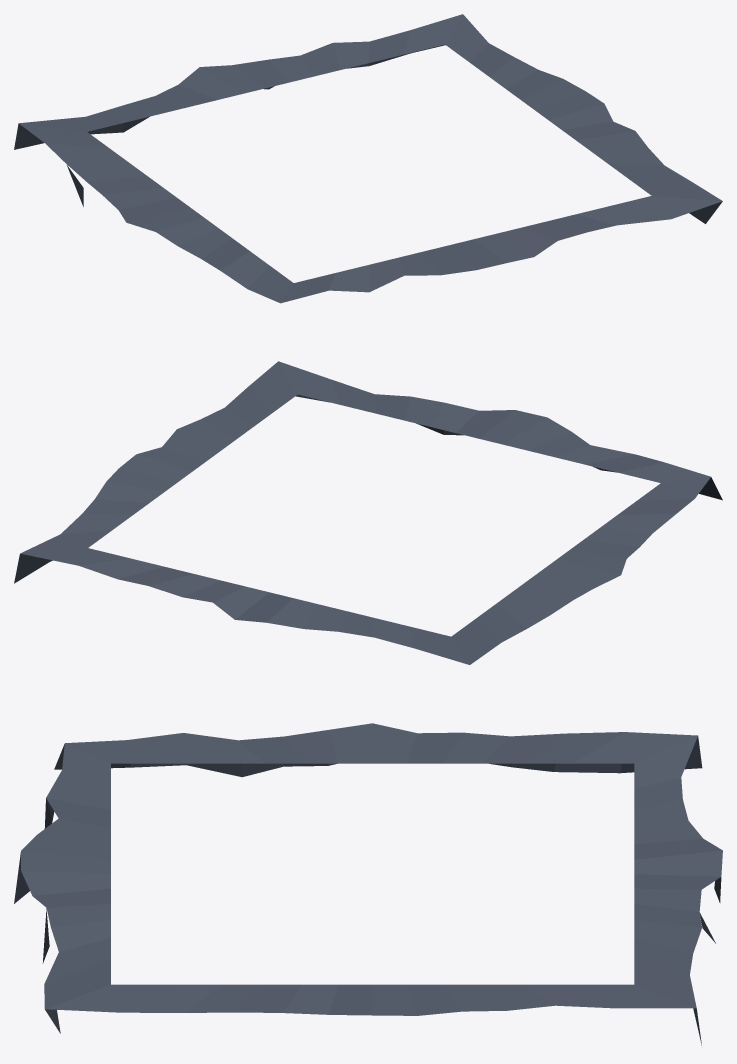
File: entorno.glb
The picture shows the model from 3 angles, top to bottom: view 1: azimuth 30°, elevation 25°; view 2: azimuth 150°, elevation 25°; view 3: azimuth 270°, elevation 25°; orthographic projection. The views are drawn at different scales.
Visible parts, largest first — view 1: vulcao_entorno; view 2: vulcao_entorno; view 3: vulcao_entorno.
Part boxes in pixels (x1,y1,x2,y2): vulcao_entorno: (14, 14, 722, 303); vulcao_entorno: (14, 361, 722, 664); vulcao_entorno: (14, 723, 722, 1045).
Bounding box in the file's own units: 16.31 × 1.06 × 16.52.
